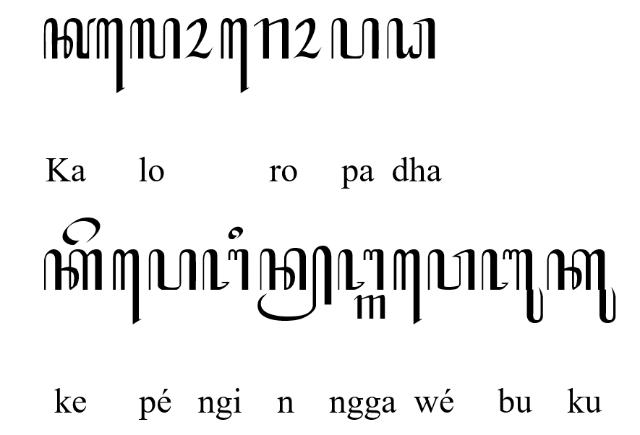-n: (257, 244, 333, 322)
K: (42, 16, 96, 60)
bu: (480, 248, 544, 326)
dh: (387, 18, 437, 60)
e: (61, 216, 101, 246)
e1: (218, 17, 250, 94), (392, 248, 422, 326), (96, 18, 125, 94), (112, 248, 140, 324)
g: (353, 294, 387, 320)
i: (228, 226, 244, 242)
k: (42, 249, 104, 292)
ku: (546, 248, 616, 324)
l: (128, 18, 182, 60)
nga: (200, 248, 250, 290), (338, 247, 384, 291)
o: (292, 18, 322, 60), (184, 18, 213, 60)
p: (330, 16, 380, 60), (147, 249, 197, 292)
r: (254, 16, 290, 60)
w: (426, 248, 476, 292)
